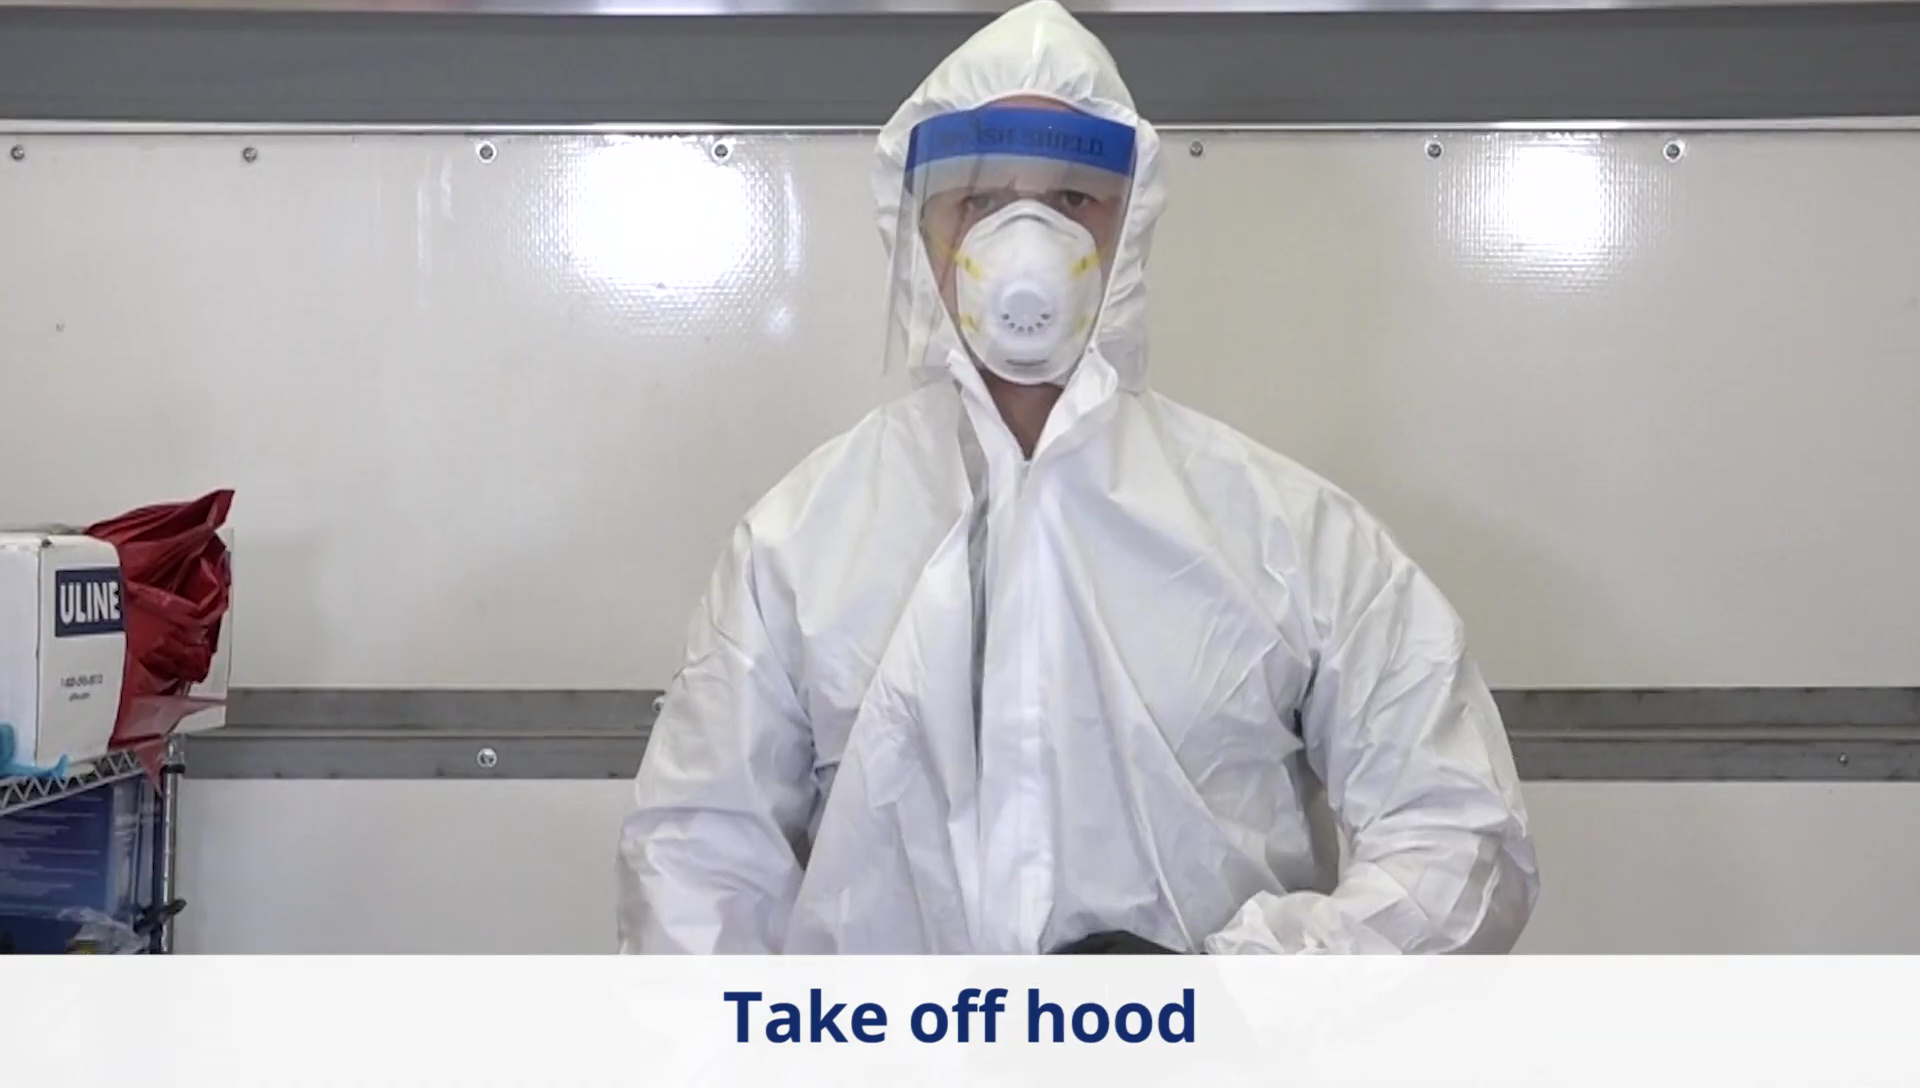Coverall: (618, 1, 1542, 951)
Face_Shield: (885, 105, 1157, 405)
with_mask: (940, 181, 1121, 386)
